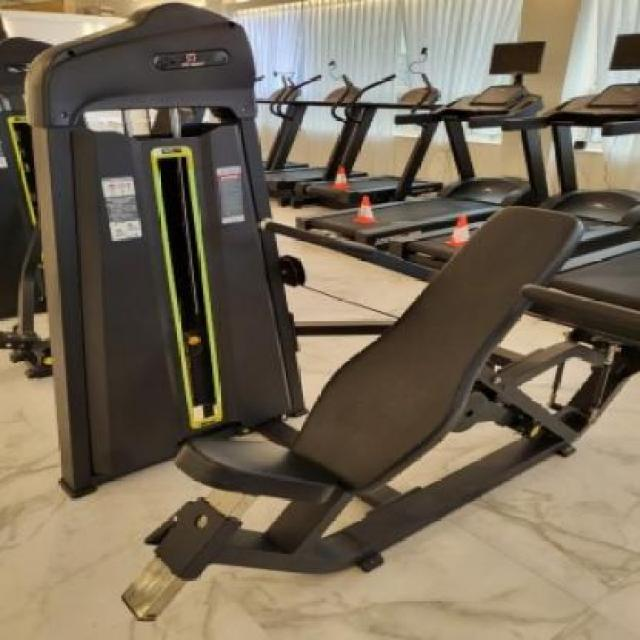Chest Press machine: (20, 0, 637, 632)
